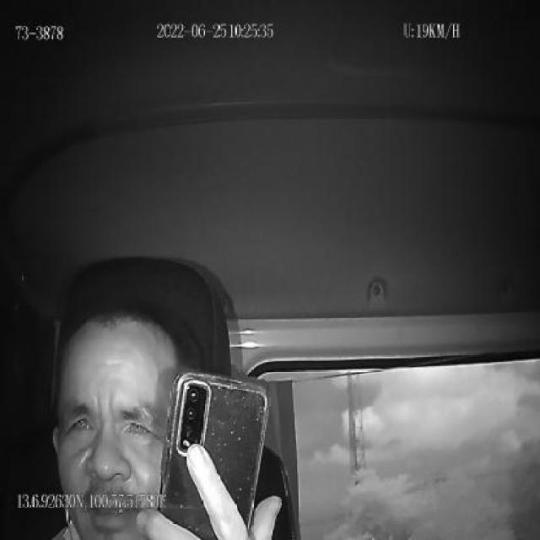phone: (157, 369, 269, 540)
